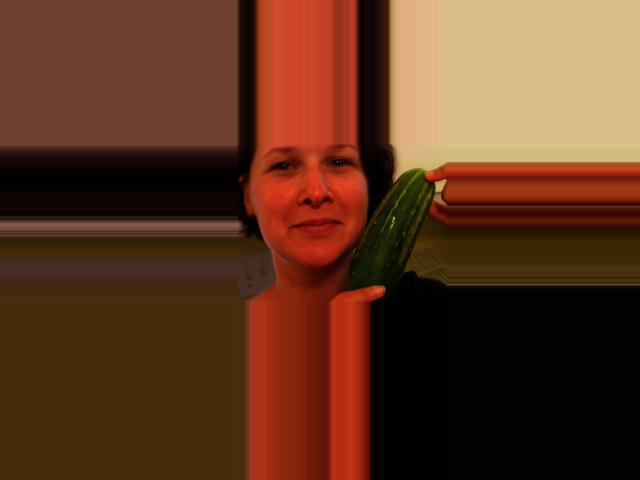cucumber: (347, 167, 434, 302)
